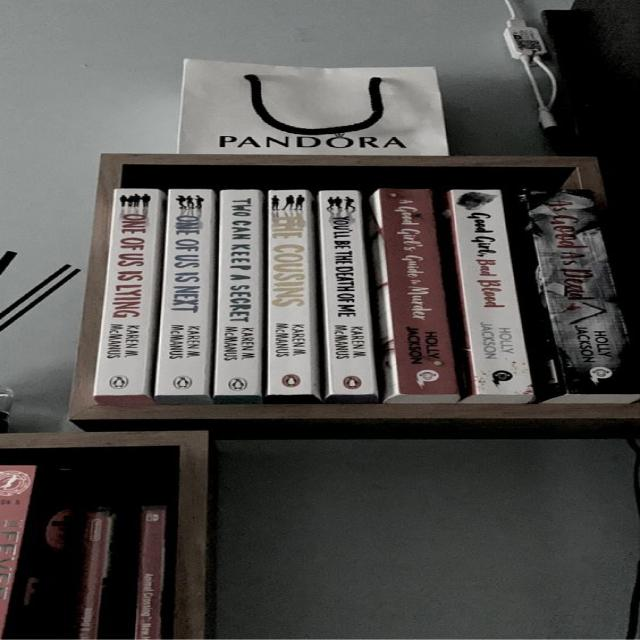book: (526, 189, 639, 393), (452, 189, 533, 395), (380, 189, 458, 394), (95, 189, 157, 395), (157, 189, 213, 394), (321, 190, 377, 394), (215, 189, 259, 395), (268, 189, 312, 395)
